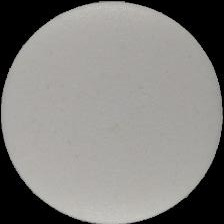47781-341: (0, 0, 224, 224)
